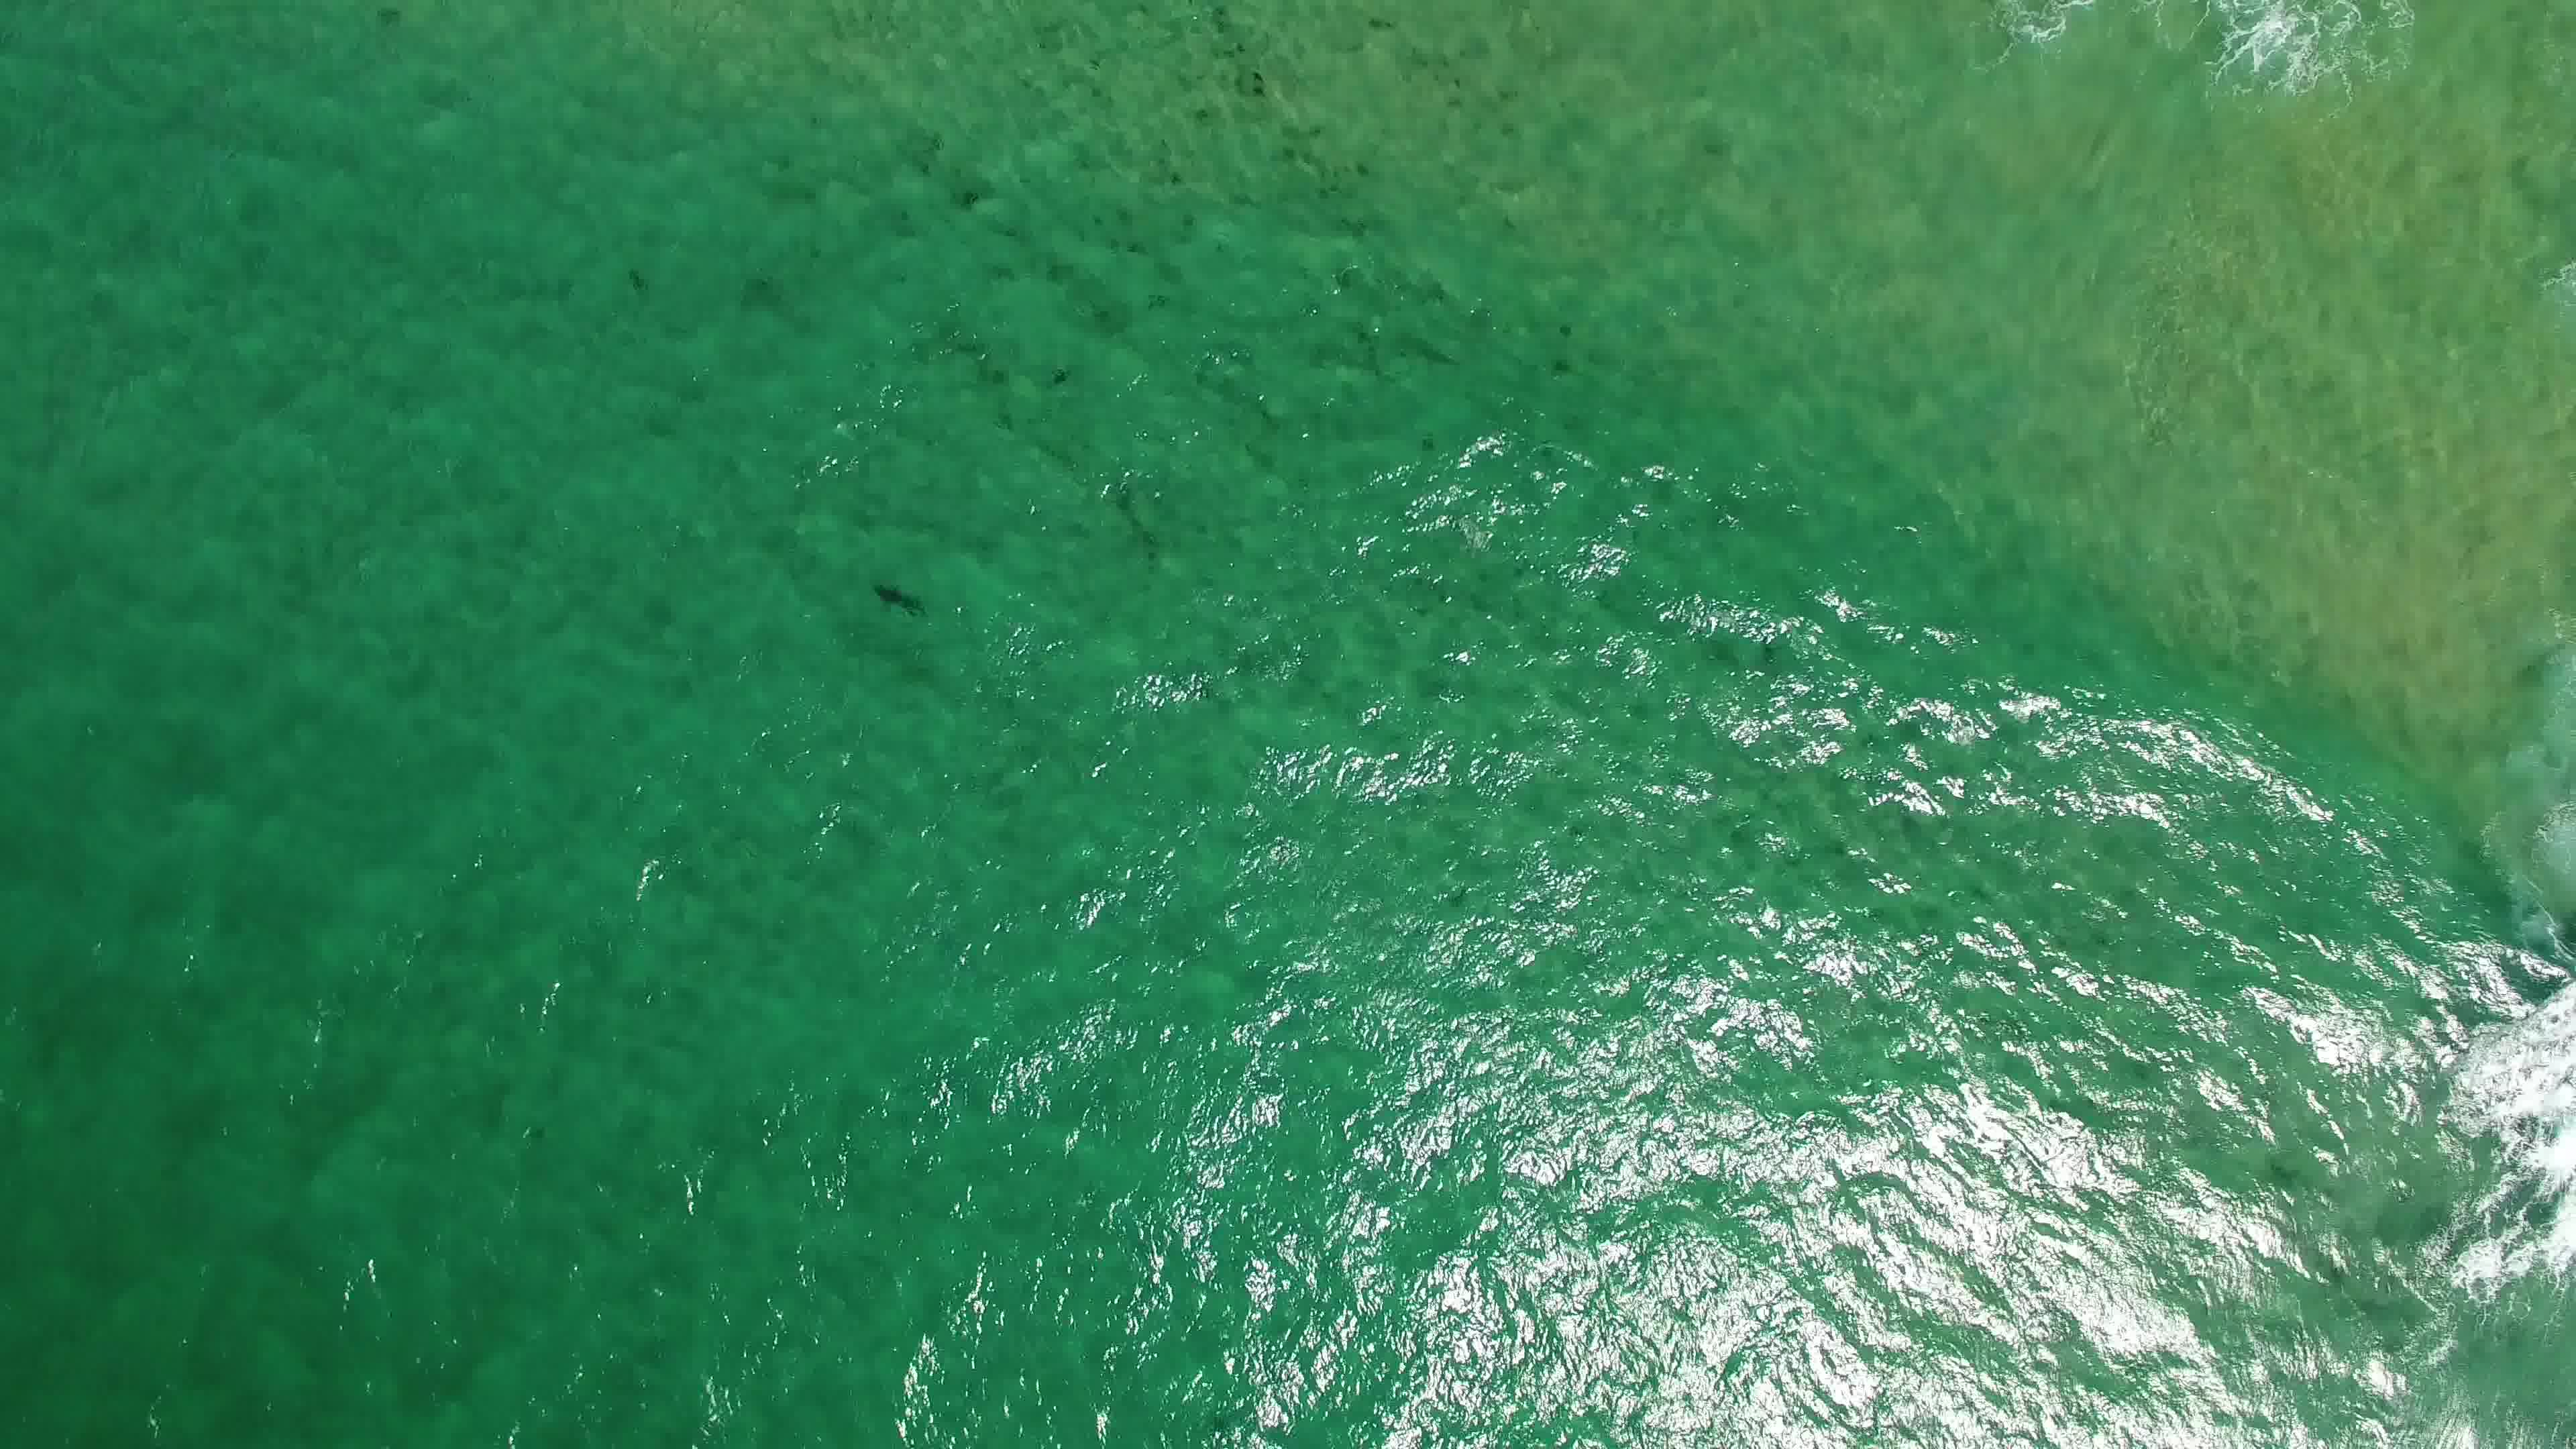shark: (869, 577, 934, 621)
